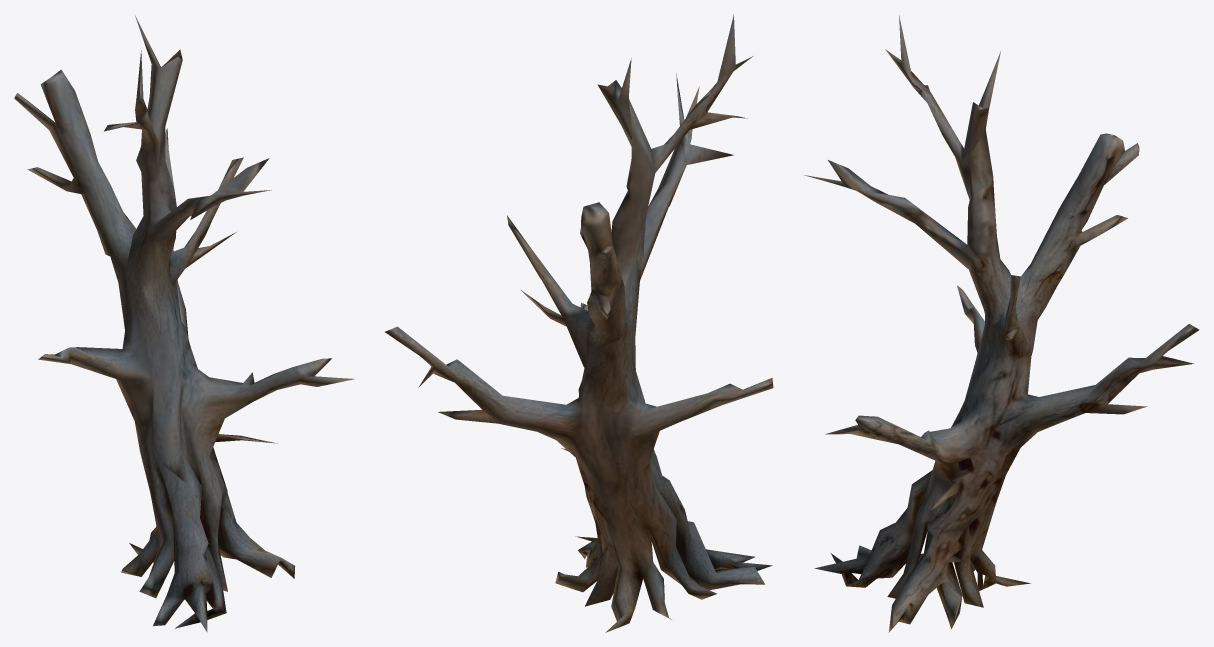
Rendered from secco.glb.
3 views of the same model, side by side, from view 1: azimuth 30°, elevation 25°; view 2: azimuth 150°, elevation 25°; view 3: azimuth 270°, elevation 25° (orthographic). The views are drawn at different scales.
Parts seen in each view (by area): view 1: tripo_node_4703b7e4-66bf-42cc-8fa2-1c241f13d834; view 2: tripo_node_4703b7e4-66bf-42cc-8fa2-1c241f13d834; view 3: tripo_node_4703b7e4-66bf-42cc-8fa2-1c241f13d834.
Boxes of the visible parts, x1,y1,x2,y2 form: tripo_node_4703b7e4-66bf-42cc-8fa2-1c241f13d834: (14,15,354,632); tripo_node_4703b7e4-66bf-42cc-8fa2-1c241f13d834: (385,14,773,632); tripo_node_4703b7e4-66bf-42cc-8fa2-1c241f13d834: (804,15,1199,632).
Bounding box in the file's own units: 0.4675 × 1 × 0.6568.
1 material, 1 textured.
